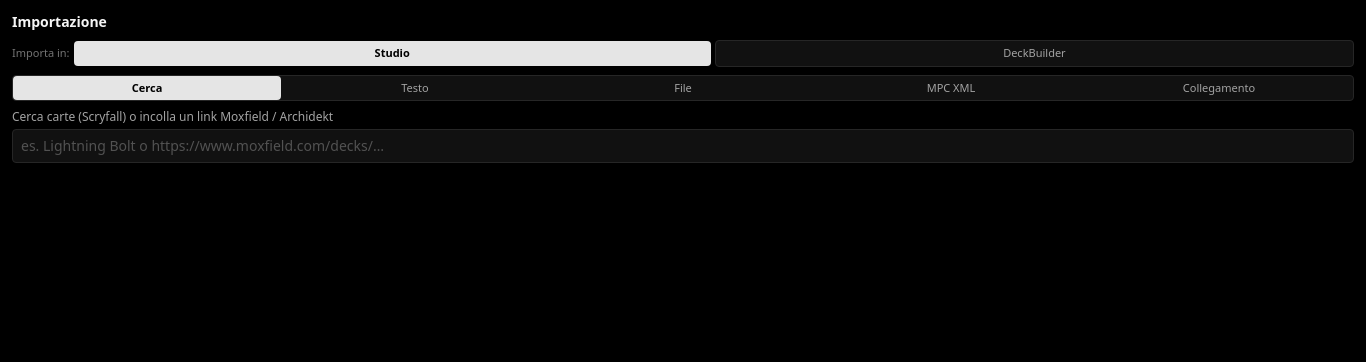
Test: LeftPanel import decklist (pulsanti veri) › livelli piatti: Testo mostra il form, Cerca lo nasconde
Expected: the tab "Cerca" is shown, x1=13 y1=76 x2=281 y2=100
Expected: the tab "File" is shown, x1=549 y1=76 x2=817 y2=100
Click the tab "Testo".
click(415, 88)  # box x1=281 y1=76 x2=549 y2=100
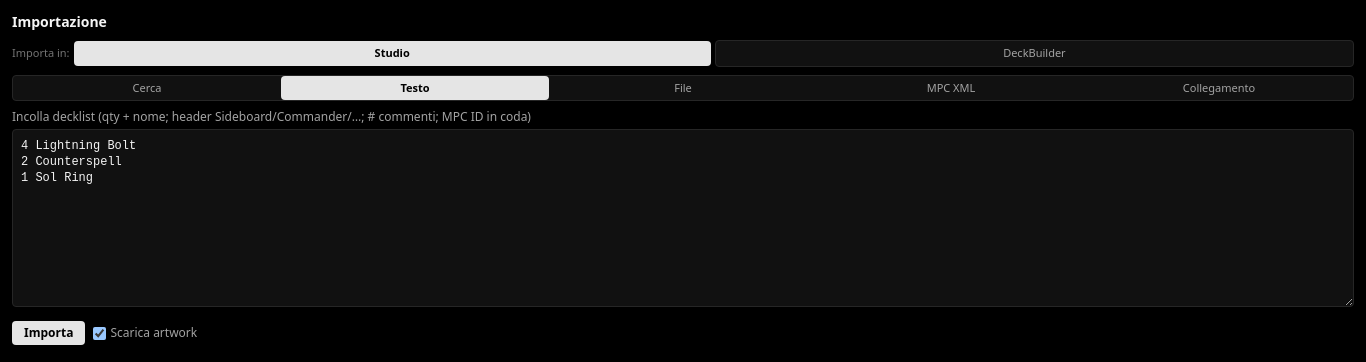
Expected: the text box labelled "Incolla decklist" is shown, x1=12 y1=129 x2=1354 y2=307
Expected: the button "Importa" is shown, x1=12 y1=321 x2=85 y2=345
Click the tab "Cerca".
click(147, 88)  # box x1=13 y1=76 x2=281 y2=100
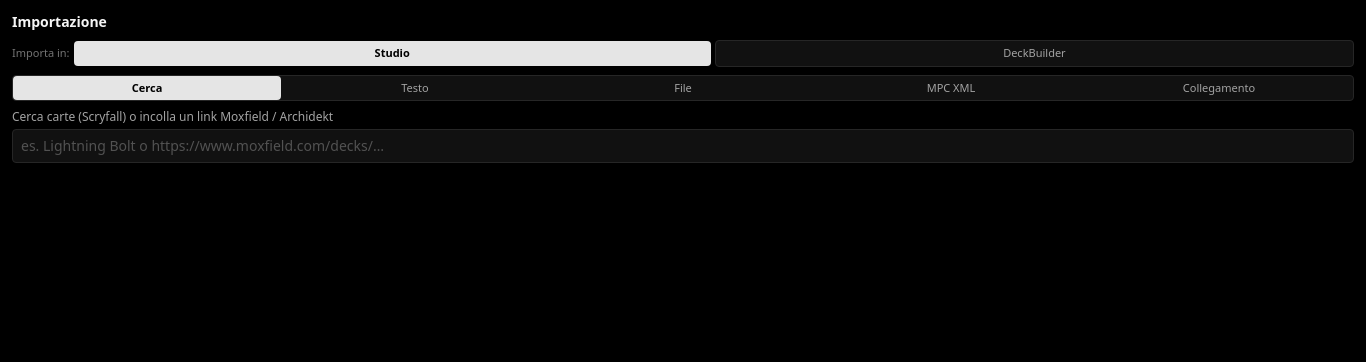
Expected: the label labelled "Incolla decklist" is gone
